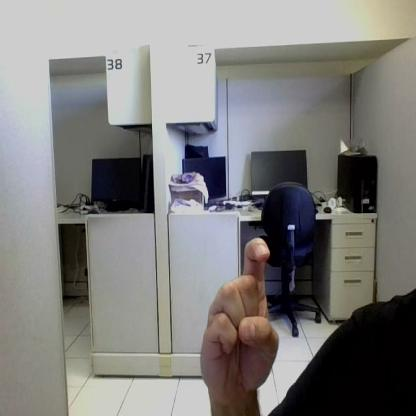X: (201, 238, 278, 394)
